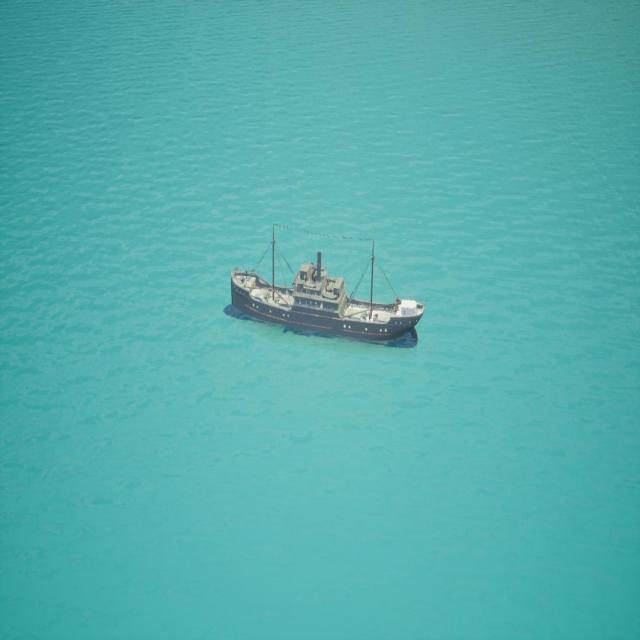fishing ship: (228, 233, 425, 345)
